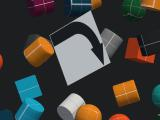Right: (50, 10, 110, 86)
